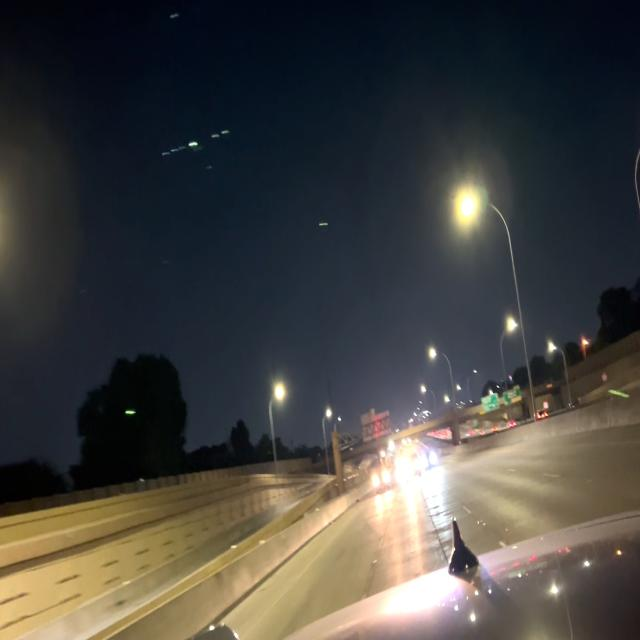back-of-sign: (361, 406, 391, 443)
